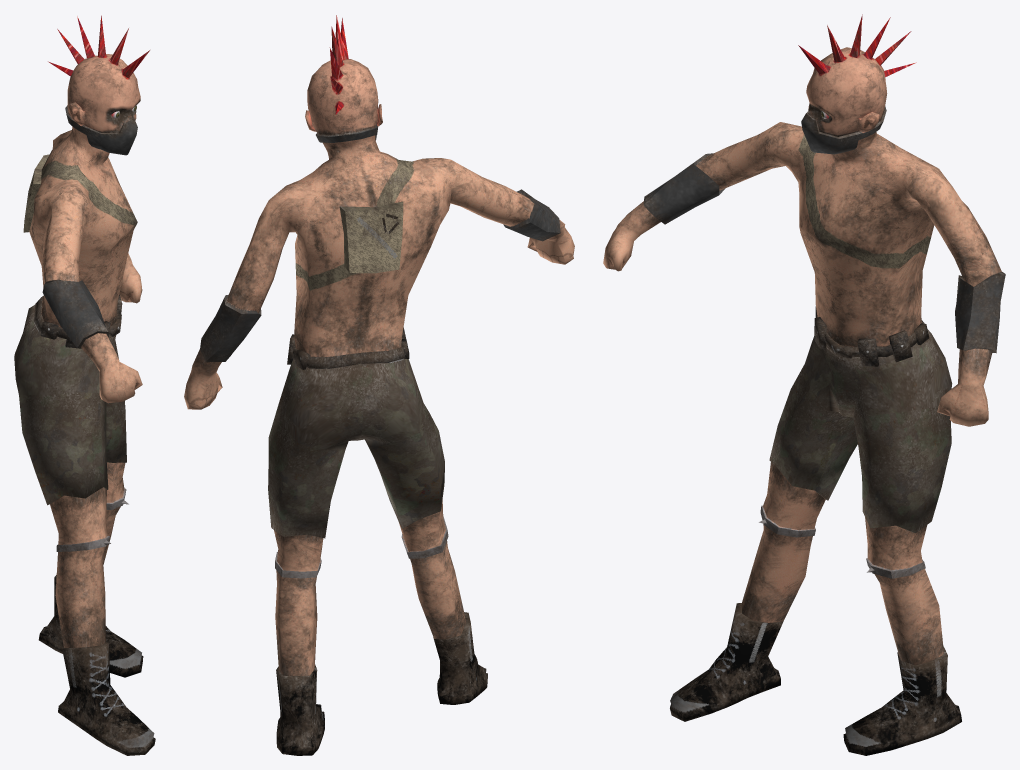
File: Anim_disparar_pistola_npc2.0020.obj
3 views of the same model, side by side, from view 1: azimuth 30°, elevation 25°; view 2: azimuth 150°, elevation 25°; view 3: azimuth 270°, elevation 25° (orthographic). The views are drawn at different scales.
Parts seen in each view (by area): view 1: polySurface1; view 2: polySurface1; view 3: polySurface1.
Boxes of the visible parts, bbox=[...] form: polySurface1: bbox=[14, 15, 155, 755]; polySurface1: bbox=[184, 15, 574, 755]; polySurface1: bbox=[603, 14, 1005, 755].
Size of the model in its own units: 3.36 by 10.22 by 5.15.
2 materials, 2 textured.
